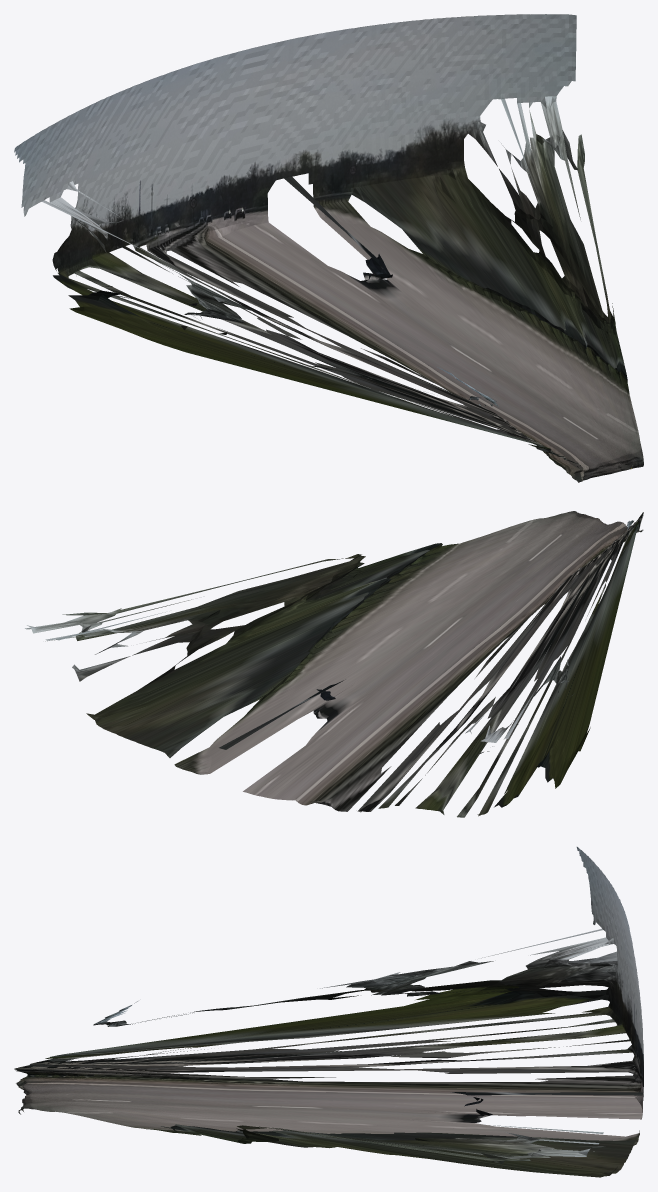
3 views of the same model, one above another, from view 1: azimuth 30°, elevation 25°; view 2: azimuth 150°, elevation 25°; view 3: azimuth 270°, elevation 25° (orthographic). The views are drawn at different scales.
Visible parts, largest first — view 1: defaultobject; view 2: defaultobject; view 3: defaultobject.
Boxes of the visible parts, x1,y1,x2,y2 form: defaultobject: (14, 14, 643, 482); defaultobject: (25, 511, 643, 817); defaultobject: (14, 847, 643, 1177).
Bounding box in the file's own units: 39.94 × 12.47 × 44.68.
Materials: 1 (1 with a texture image).
